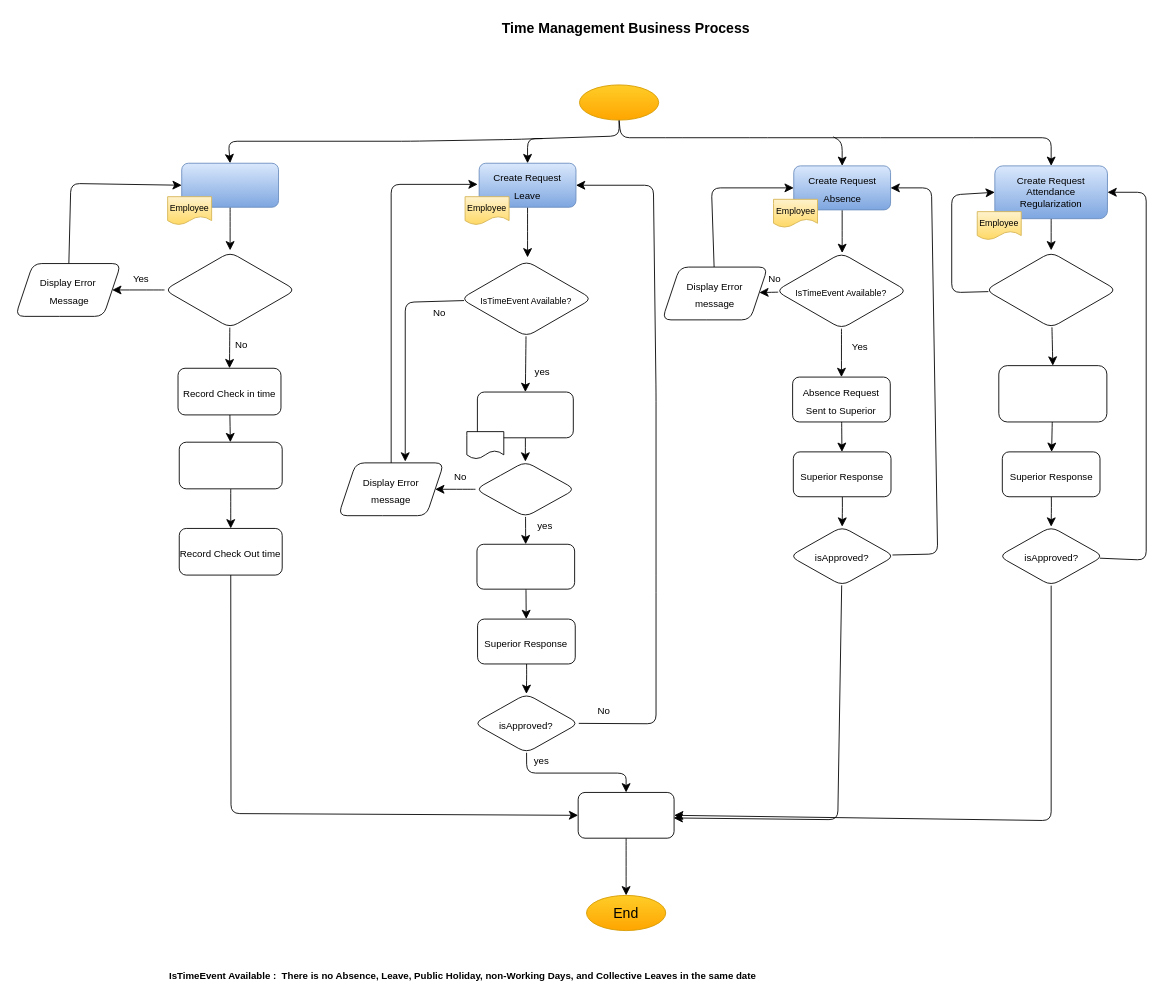
The diagram is 1170 pixels wide and 1002 high, and some of its shapes have lost their labels. The shapes that lost their labels are listed below. From the top down, each one's centre as x and y in pixels, then its label:
At [619,102]: "start".
At [230,184]: "Check In".
At [230,289]: "IsLeave? || IsAbsence?".
At [1051,289]: "IsTimeEvent Null?".
At [1052,393]: "Attendance Regularization Request Sent to Superior".
At [525,414]: "Checking Leave Balance".
At [230,465]: "Check Out".
At [485,445]: "System".
At [525,489]: "LB > 0?".
At [525,566]: "Leave Request Sent to Superior".
At [625,815]: "Time Event".
